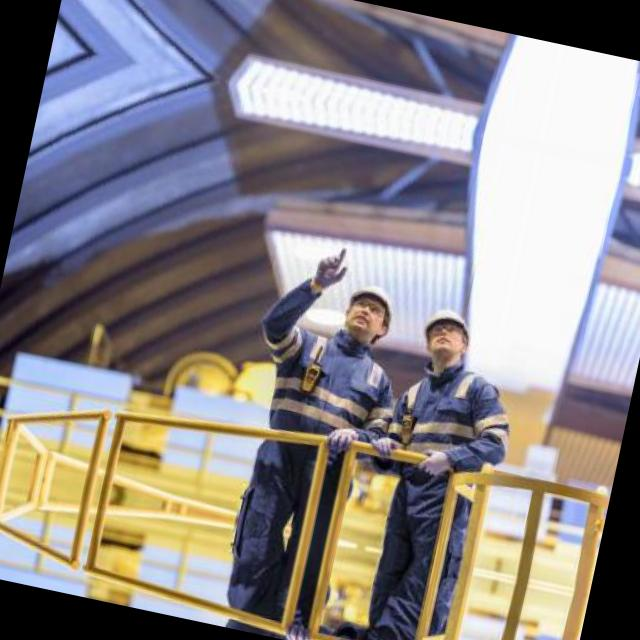helmet: (411, 298, 479, 376), (333, 274, 401, 351)
